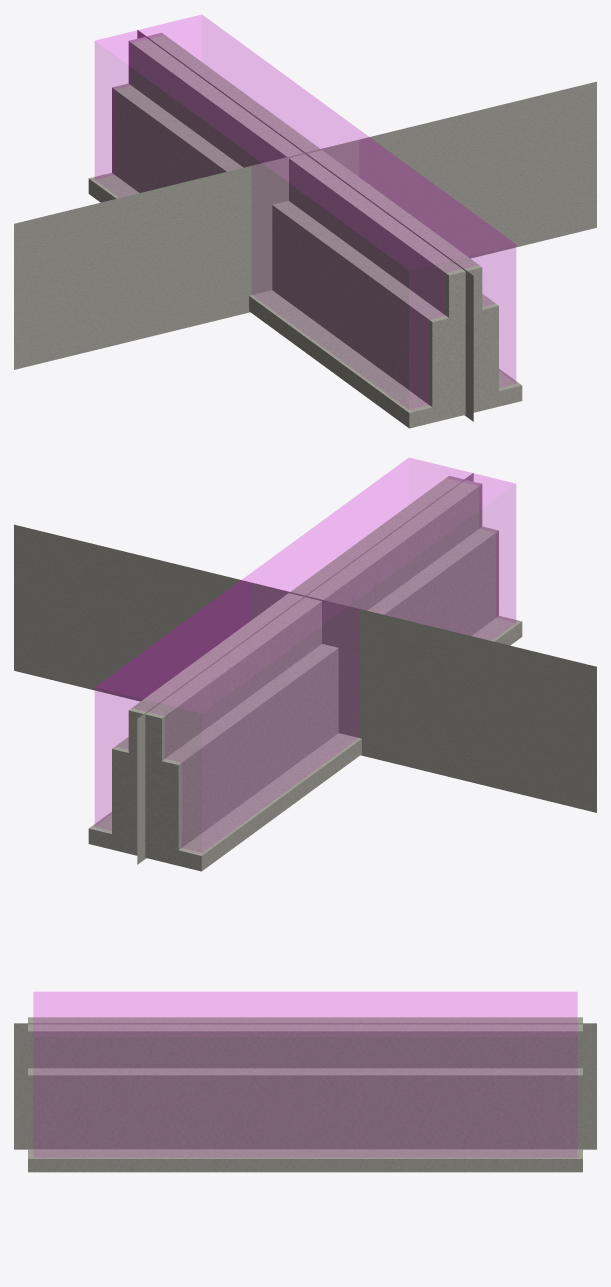
File: krail_concrete_3m.dae
3 renders of one model, top to bottom at view 1: azimuth 30°, elevation 25°; view 2: azimuth 150°, elevation 25°; view 3: azimuth 270°, elevation 25°, orthographic. The views are drawn at different scales.
Visible parts, largest first — view 1: krail_concrete_3m_a50, Colmesh_krail-1, krail_concrete_3m_a800, krail_concrete_3m_a200; view 2: krail_concrete_3m_a50, Colmesh_krail-1, krail_concrete_3m_a800, krail_concrete_3m_a200; view 3: krail_concrete_3m_a800, Colmesh_krail-1, krail_concrete_3m_a200, krail_concrete_3m_a50.
Part boxes in pixels (x1=…): krail_concrete_3m_a50: x1=14, y1=30, x2=596, y2=421; Colmesh_krail-1: x1=95, y1=15, x2=515, y2=408; krail_concrete_3m_a800: x1=88, y1=33, x2=522, y2=428; krail_concrete_3m_a200: x1=116, y1=175, x2=498, y2=407; krail_concrete_3m_a50: x1=14, y1=473, x2=596, y2=864; Colmesh_krail-1: x1=95, y1=458, x2=515, y2=851; krail_concrete_3m_a800: x1=88, y1=476, x2=522, y2=871; krail_concrete_3m_a200: x1=112, y1=527, x2=498, y2=849; krail_concrete_3m_a800: x1=28, y1=1017, x2=582, y2=1172; Colmesh_krail-1: x1=33, y1=992, x2=577, y2=1156; krail_concrete_3m_a200: x1=28, y1=1068, x2=580, y2=1149; krail_concrete_3m_a50: x1=14, y1=1023, x2=596, y2=1149.
Size of the model in its own units: 3.15 by 3.15 by 0.8074.
Materials: 2 (1 with a texture image).
